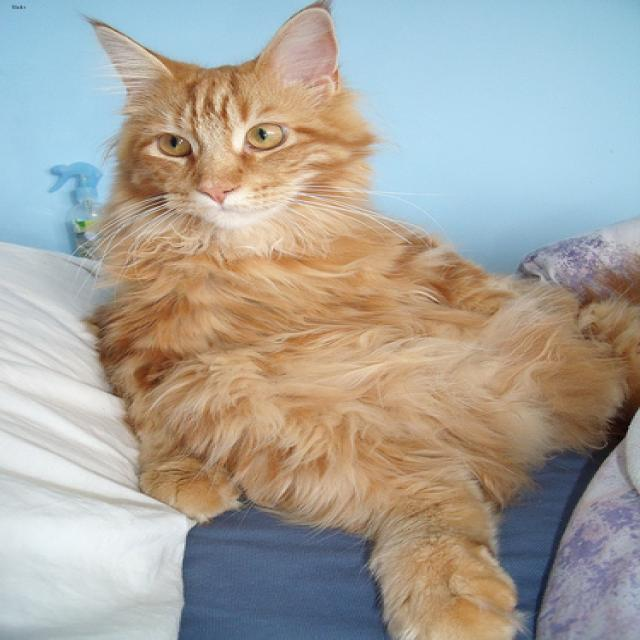Maine_Coon: (74, 0, 379, 244)
